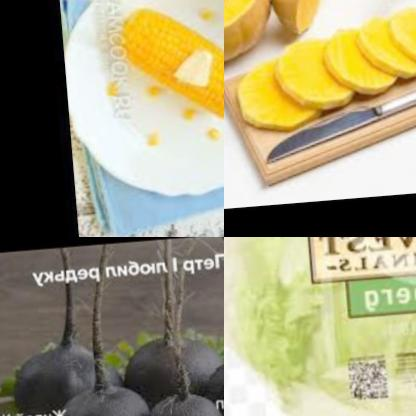corn: (107, 4, 224, 128)
pumpkin: (272, 35, 351, 126), (227, 55, 312, 136), (320, 25, 396, 106), (351, 13, 416, 91), (263, 0, 335, 44), (393, 3, 416, 81)
redka: (7, 340, 124, 416), (113, 334, 223, 411), (47, 382, 149, 416), (197, 340, 224, 416), (144, 394, 222, 416)
salad: (224, 237, 416, 416)
